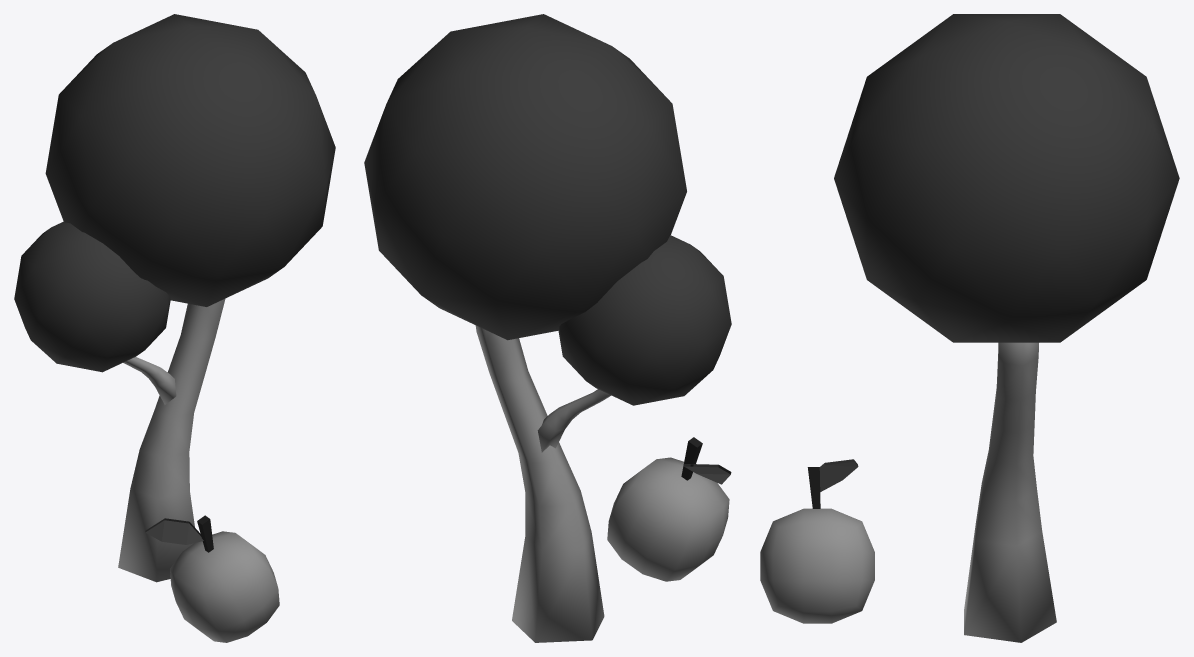
The model's file is tree.glb.
3 views of the same model, side by side, from view 1: azimuth 30°, elevation 25°; view 2: azimuth 150°, elevation 25°; view 3: azimuth 270°, elevation 25° (orthographic). The views are drawn at different scales.
Parts seen in each view (by area): view 1: tree; view 2: tree; view 3: tree.
Part boxes in pixels (x1,y1,x2,y2): tree: (14, 14, 335, 642); tree: (364, 14, 731, 642); tree: (760, 14, 1179, 642).
Bounding box in the file's own units: 0.9101 × 1.6 × 0.9764.
Materials: 1 (1 with a texture image).
